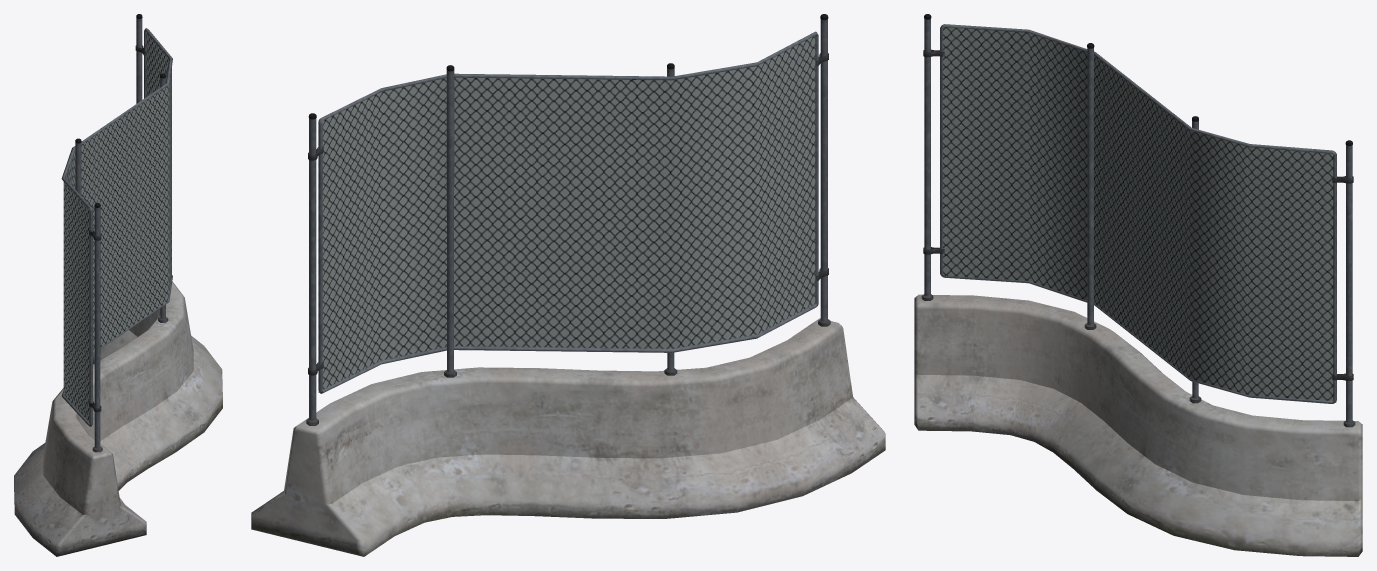
Rendered from Fence_A_E.fbx.
3 renders of one model, left to right at view 1: azimuth 30°, elevation 25°; view 2: azimuth 150°, elevation 25°; view 3: azimuth 270°, elevation 25°, orthographic. The views are drawn at different scales.
Parts seen in each view (by area): view 1: Fence_A_E; view 2: Fence_A_E; view 3: Fence_A_E.
Part boxes in pixels (box(x1,y1,x2,y2)): Fence_A_E: box(14, 14, 222, 556); Fence_A_E: box(251, 14, 885, 556); Fence_A_E: box(914, 14, 1362, 556).
Size of the model in its own units: 280 by 288 by 300.
